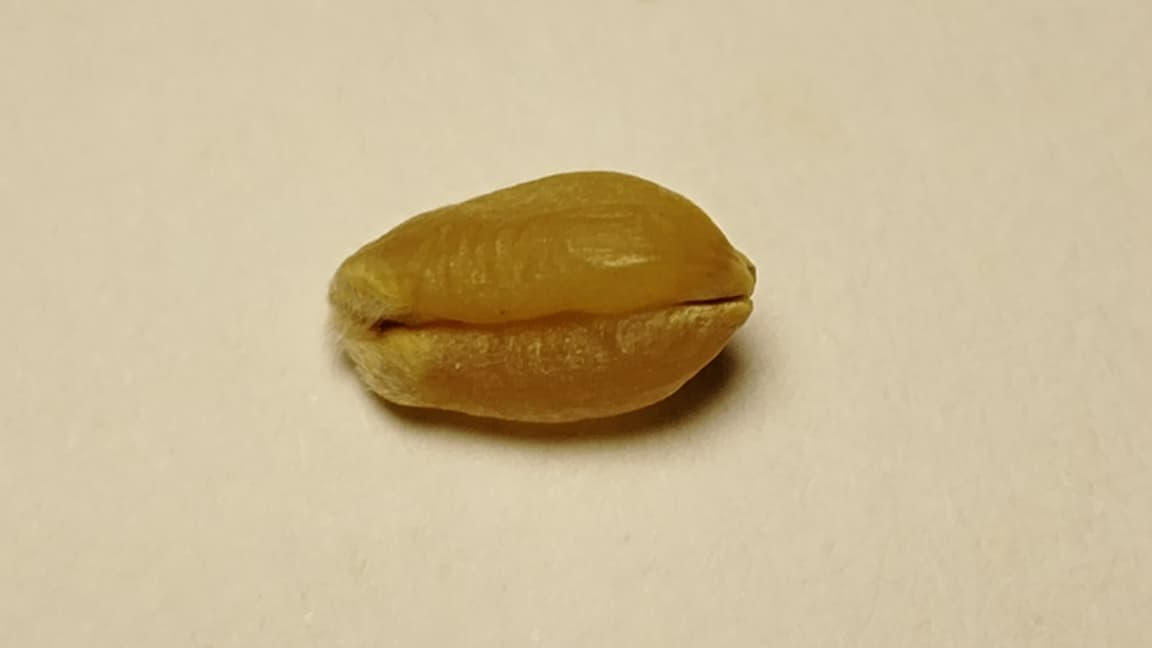healthy: (329, 171, 754, 421)
